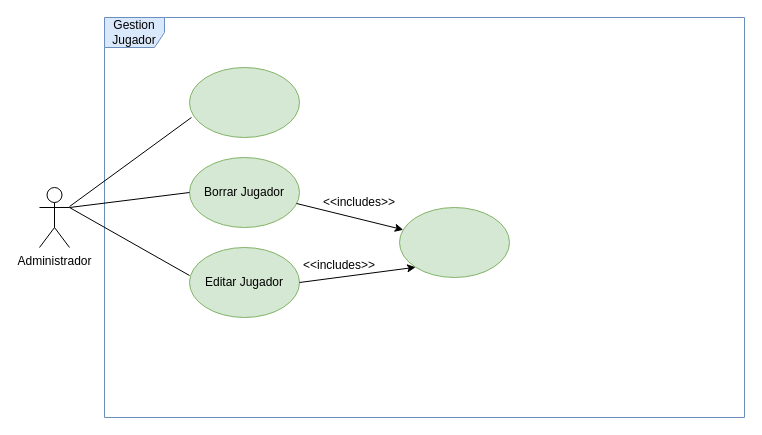
Image size: 762x435. Some labels were removed from this diagram. Here are the shapes that lost their labels. From the top down, the centre of each, then its label:
the point at 244,102: Crear Jugador
the point at 454,242: Buscar Jugador
